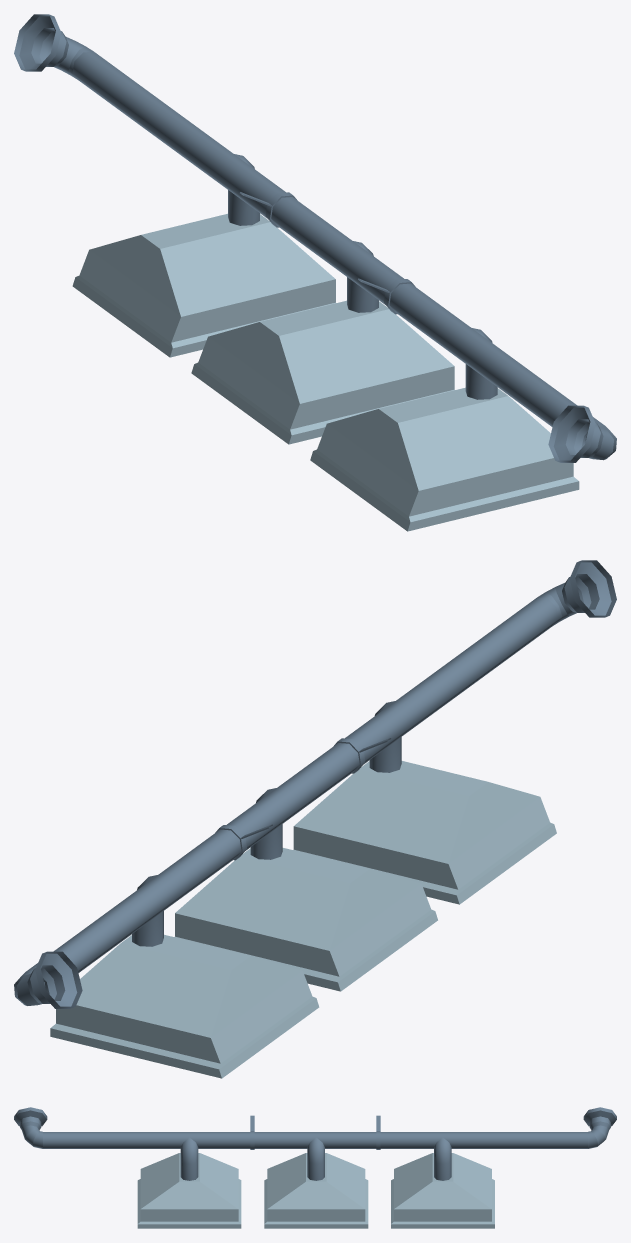
The model's file is vytyazhka.fbx.
3 views of the same model, one above another, from view 1: azimuth 30°, elevation 25°; view 2: azimuth 150°, elevation 25°; view 3: azimuth 270°, elevation 25° (orthographic). The views are drawn at different scales.
Visible parts, largest first — view 1: vytyazhka.004, vytyazhka.001, vytyazhka.005, vytyazhka.002; view 2: vytyazhka.001, vytyazhka.002, vytyazhka.004, vytyazhka.005; view 3: vytyazhka.001, vytyazhka.004, vytyazhka.005, vytyazhka.002.
Part boxes in pixels (x1,y1,x2,y2): vytyazhka.004: [310, 328, 579, 531]; vytyazhka.001: [14, 14, 616, 462]; vytyazhka.005: [191, 241, 454, 444]; vytyazhka.002: [72, 154, 336, 357]; vytyazhka.001: [14, 560, 616, 1008]; vytyazhka.002: [50, 875, 319, 1078]; vytyazhka.004: [293, 701, 556, 904]; vytyazhka.005: [174, 788, 437, 991]; vytyazhka.001: [14, 1107, 616, 1149]; vytyazhka.004: [137, 1137, 241, 1228]; vytyazhka.005: [264, 1137, 368, 1228]; vytyazhka.002: [391, 1137, 494, 1228].
Size of the model in its own units: 41.48 by 41.83 by 237.
